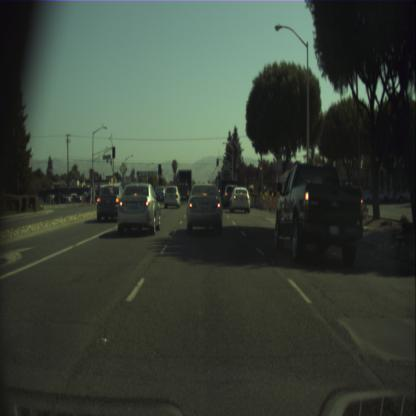GreenLeft: (159, 178, 161, 188)
Red: (260, 166, 262, 174), (217, 158, 218, 165)
off: (158, 164, 160, 174)
